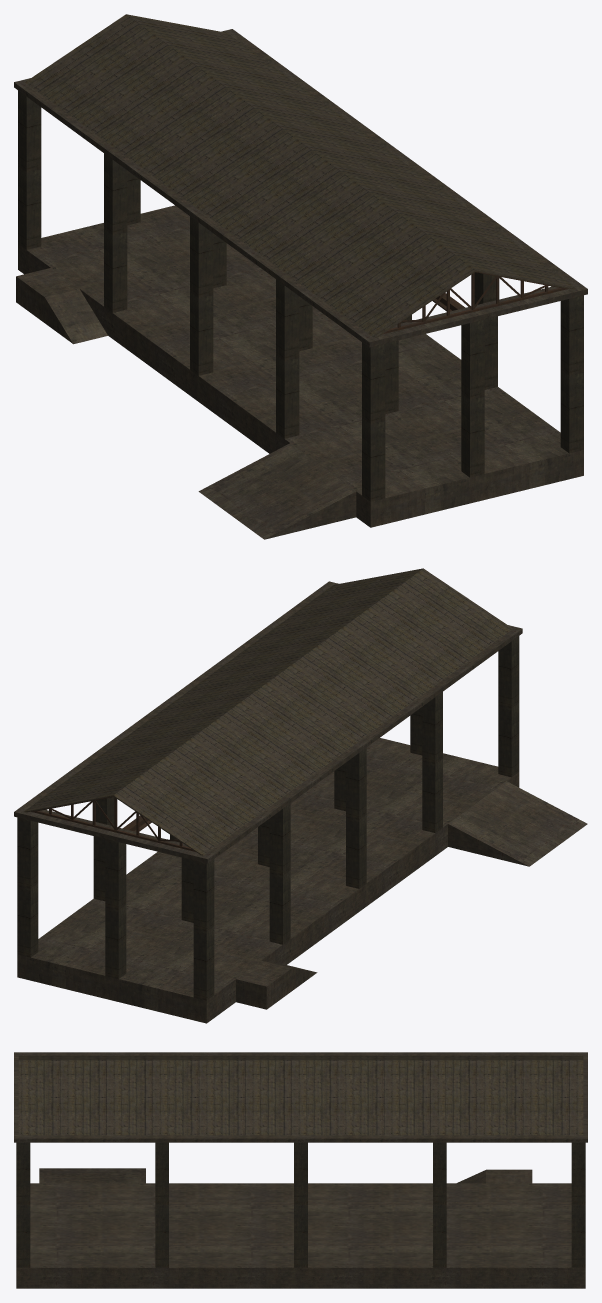
The model's file is warehouse_mx_4_1.dae.
3 renders of one model, top to bottom at view 1: azimuth 30°, elevation 25°; view 2: azimuth 150°, elevation 25°; view 3: azimuth 270°, elevation 25°, orthographic. The views are drawn at different scales.
Parts seen in each view (by area): view 1: warehouse_mx_4_1; view 2: warehouse_mx_4_1; view 3: warehouse_mx_4_1.
Part boxes in pixels (box(x1,y1,x2,y2)): warehouse_mx_4_1: box(14, 14, 587, 539); warehouse_mx_4_1: box(14, 568, 587, 1023); warehouse_mx_4_1: box(14, 1052, 587, 1288).
Bounding box in the file's own units: 12.4 × 24.8 × 8.87.
4 materials, 4 textured.
